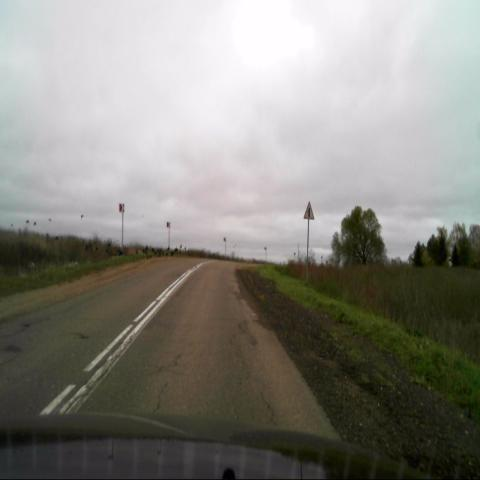2_3_3: (303, 200, 315, 220)
